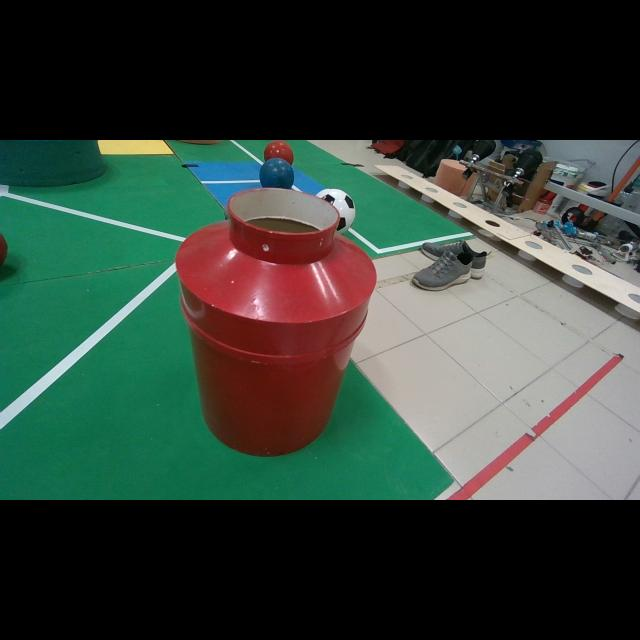B: (259, 158, 294, 188)
R: (264, 140, 294, 165)
